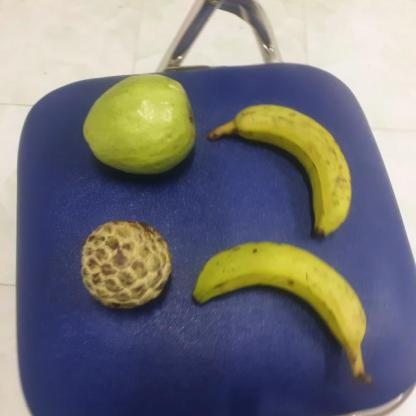annona: (76, 220, 172, 309)
banana: (184, 243, 362, 360), (203, 104, 353, 234)
guava: (83, 71, 195, 175)
